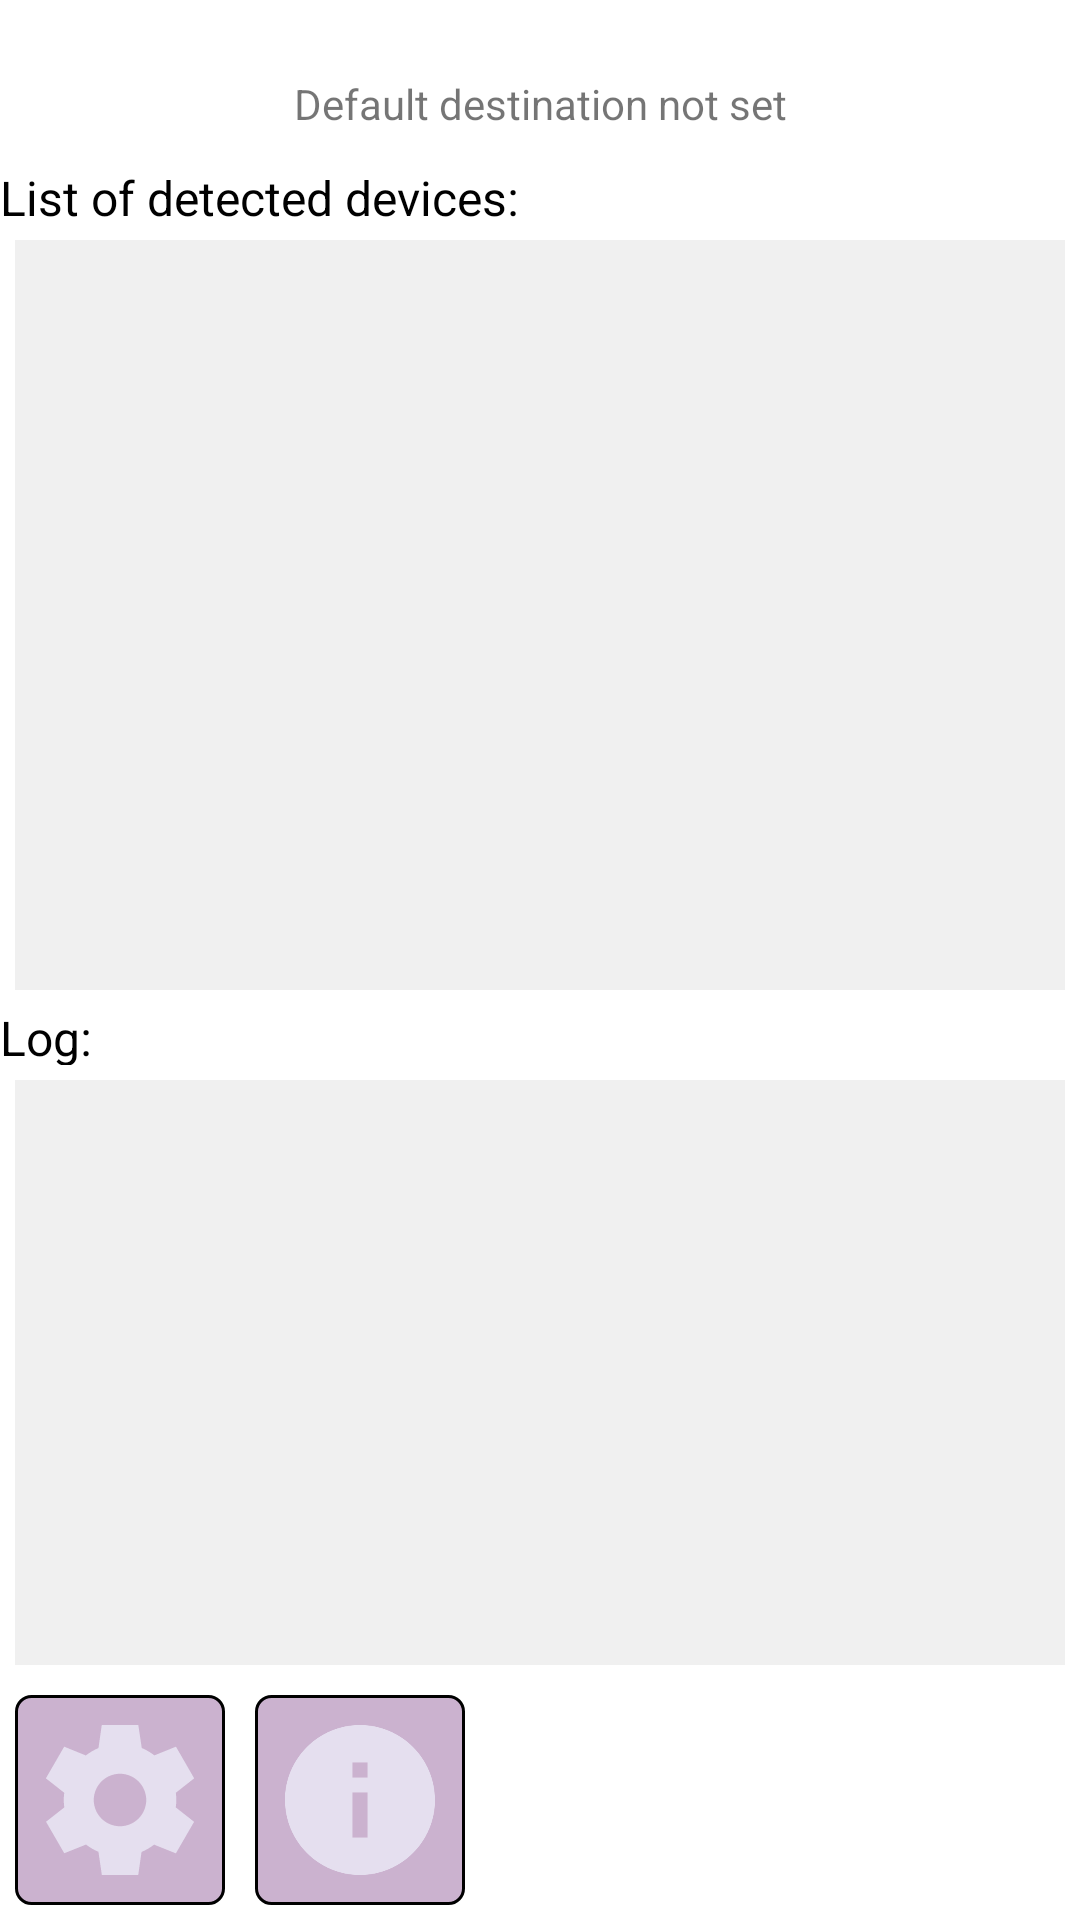

Icon bounding boxes for this 1080 × 1920 phone screenshot, format [x1, y1, x2, y2]:
info: [255, 1695, 465, 1905]
settings: [15, 1695, 225, 1905]
